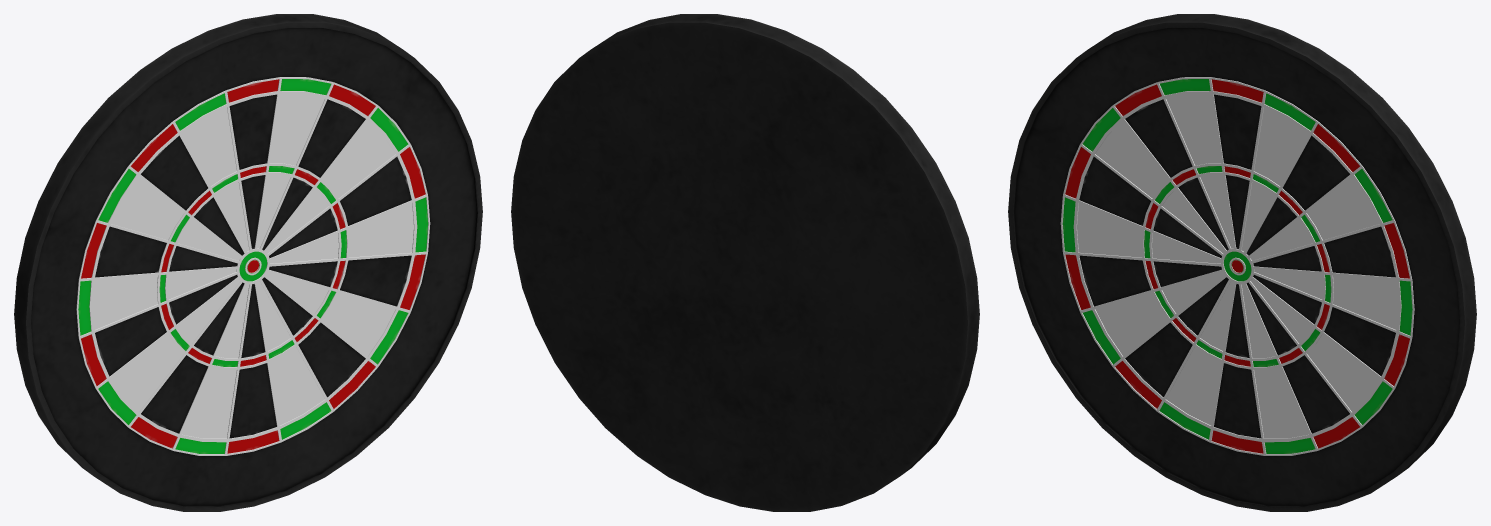
The model's file is dart-board-low-poly-d46717.glb.
The picture shows the model from 3 angles, left to right: view 1: azimuth 30°, elevation 25°; view 2: azimuth 150°, elevation 25°; view 3: azimuth 330°, elevation 25°; orthographic projection.
Parts seen in each view (by area): view 1: PropMesh; view 2: PropMesh; view 3: PropMesh.
Boxes of the visible parts, x1,y1,x2,y2 form: PropMesh: (14, 14, 482, 511); PropMesh: (511, 14, 979, 511); PropMesh: (1008, 14, 1476, 511).
Bounding box in the file's own units: 0.45 × 0.45 × 0.0202.
1 material, 1 textured.
